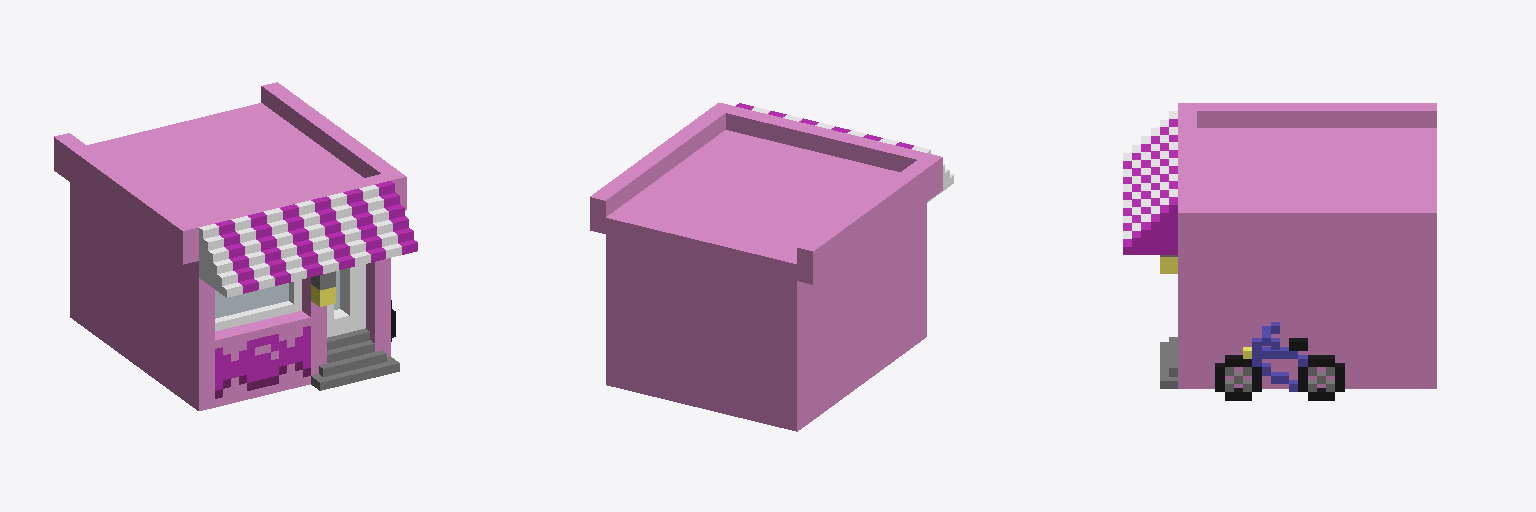
The picture shows the model from 3 angles: view 1: azimuth 30°, elevation 25°; view 2: azimuth 150°, elevation 25°; view 3: azimuth 270°, elevation 25°; orthographic projection.
Parts seen in each view (by area): view 1: candy1; view 2: candy1; view 3: candy1.
Part boxes in pixels (x1,y1,x2,y2): candy1: (54, 82, 417, 410); candy1: (590, 103, 953, 431); candy1: (1123, 103, 1436, 400).
Size of the model in its own units: 31 by 22 by 34.
1 materials, 1 textured.